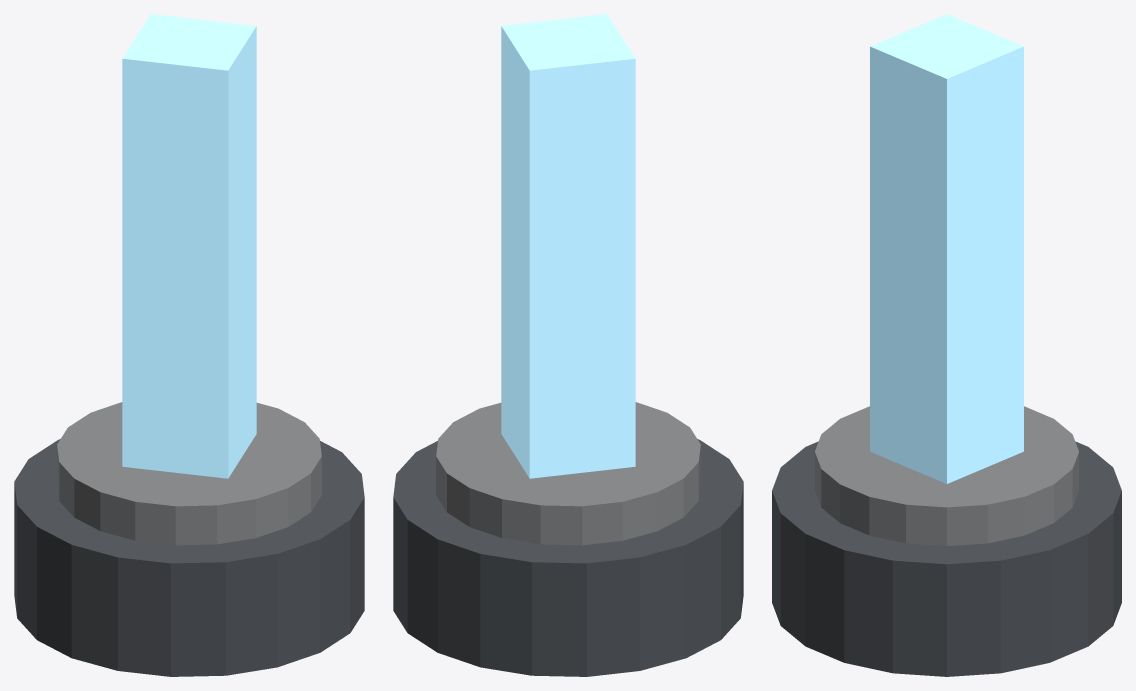
The model's file is deep-fracture-traversal.glb.
3 views of the same model, side by side, from view 1: azimuth 30°, elevation 25°; view 2: azimuth 150°, elevation 25°; view 3: azimuth 270°, elevation 25° (orthographic).
Parts seen in each view (by area): view 1: TraversalCore, TraversalPlinth, TraversalRing; view 2: TraversalCore, TraversalPlinth, TraversalRing; view 3: TraversalCore, TraversalPlinth, TraversalRing.
Boxes of the visible parts, <box> form: TraversalCore: <box>122,14,256,478</box>; TraversalPlinth: <box>14,439,364,676</box>; TraversalRing: <box>57,402,321,545</box>; TraversalCore: <box>501,14,635,478</box>; TraversalPlinth: <box>393,439,743,676</box>; TraversalRing: <box>436,402,700,545</box>; TraversalCore: <box>870,14,1023,483</box>; TraversalPlinth: <box>772,441,1121,676</box>; TraversalRing: <box>815,406,1078,546</box>.
Size of the model in its own units: 4.5 by 7.9 by 4.5.
